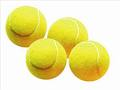tennis ball: (5, 5, 48, 47), (24, 37, 67, 79), (47, 17, 90, 58), (69, 41, 111, 82)
